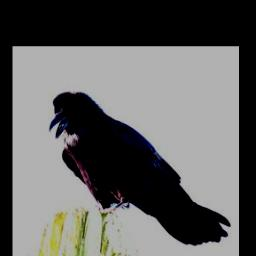Crow: (50, 90, 231, 245)
